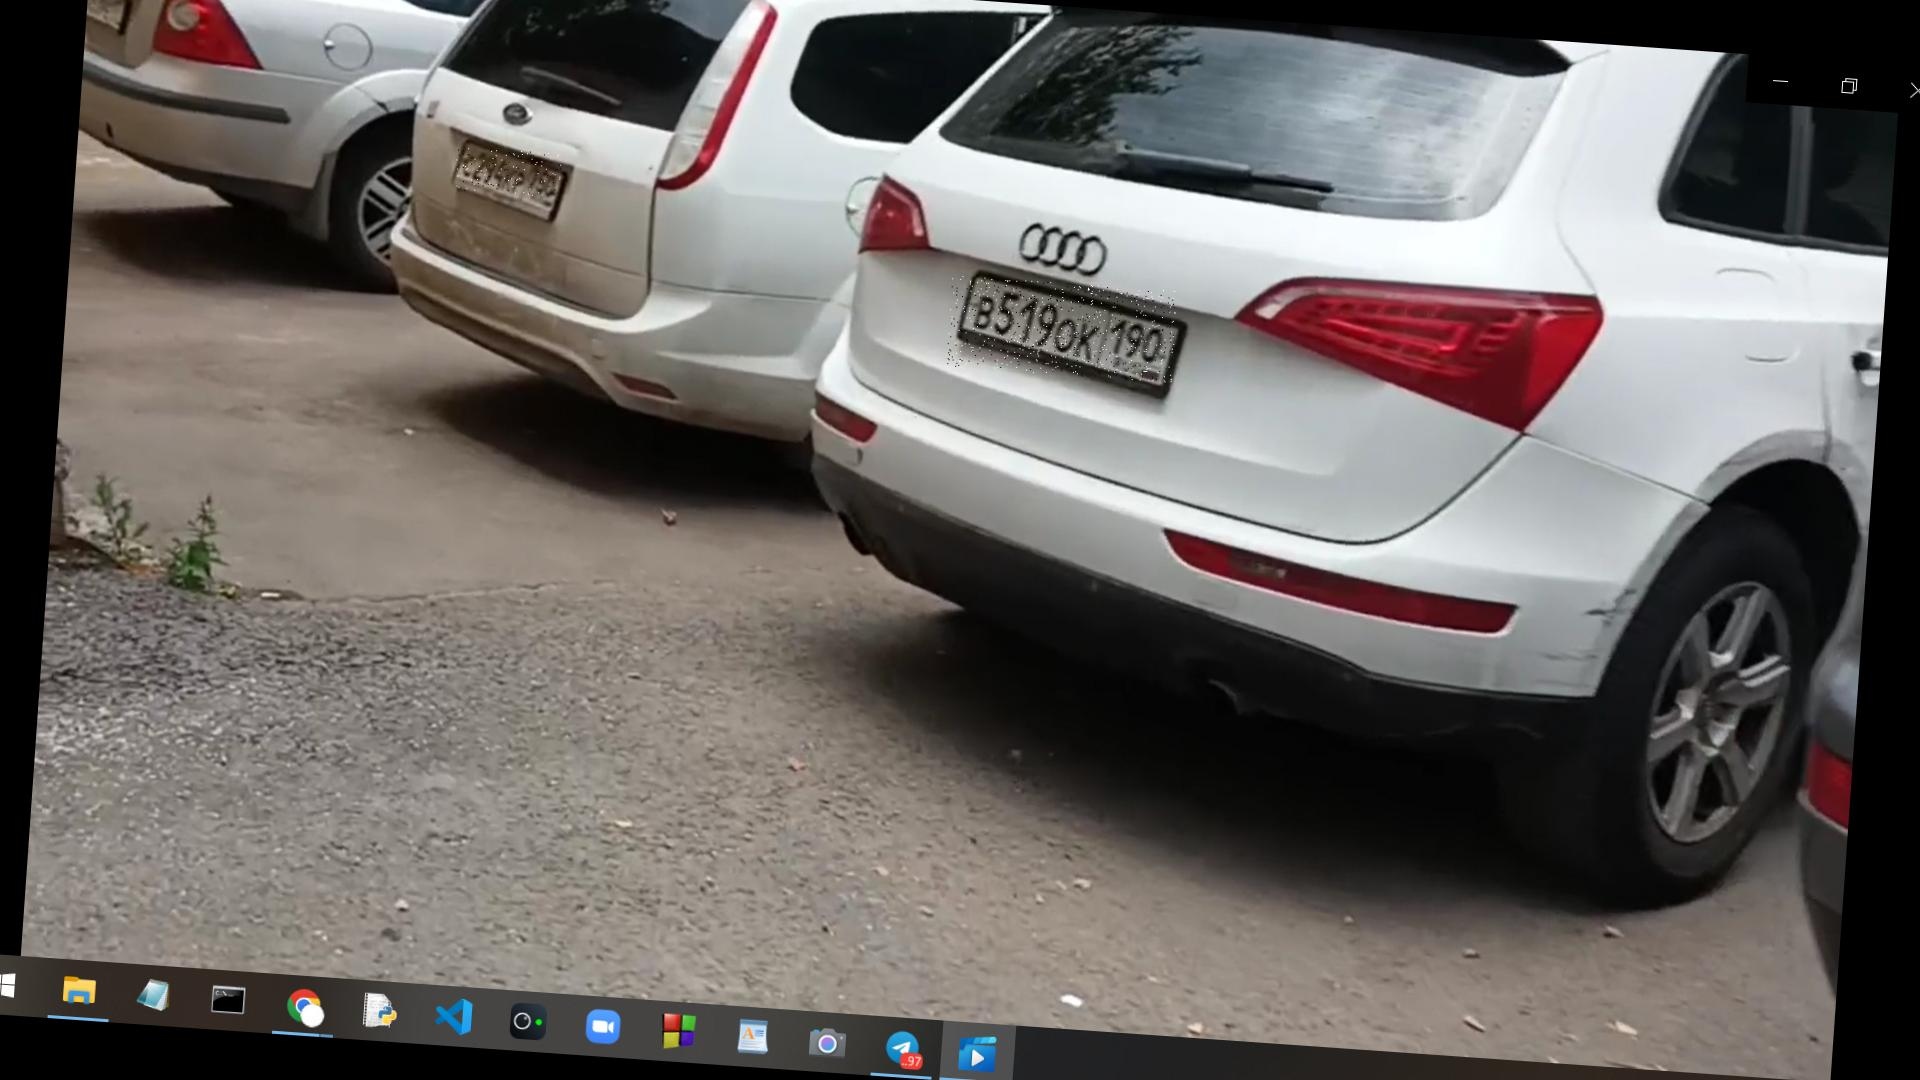plate: (948, 276, 1180, 384), (456, 148, 564, 199)
